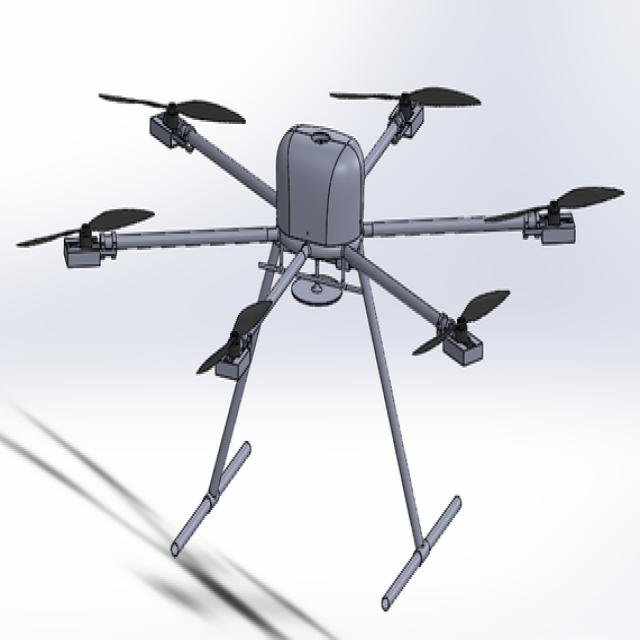drone: (45, 53, 594, 627)
